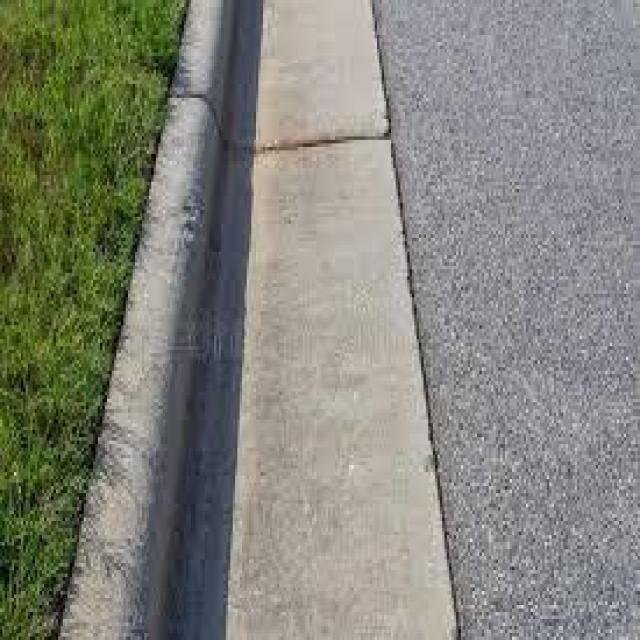curb: (57, 243, 229, 640), (147, 4, 274, 231)
